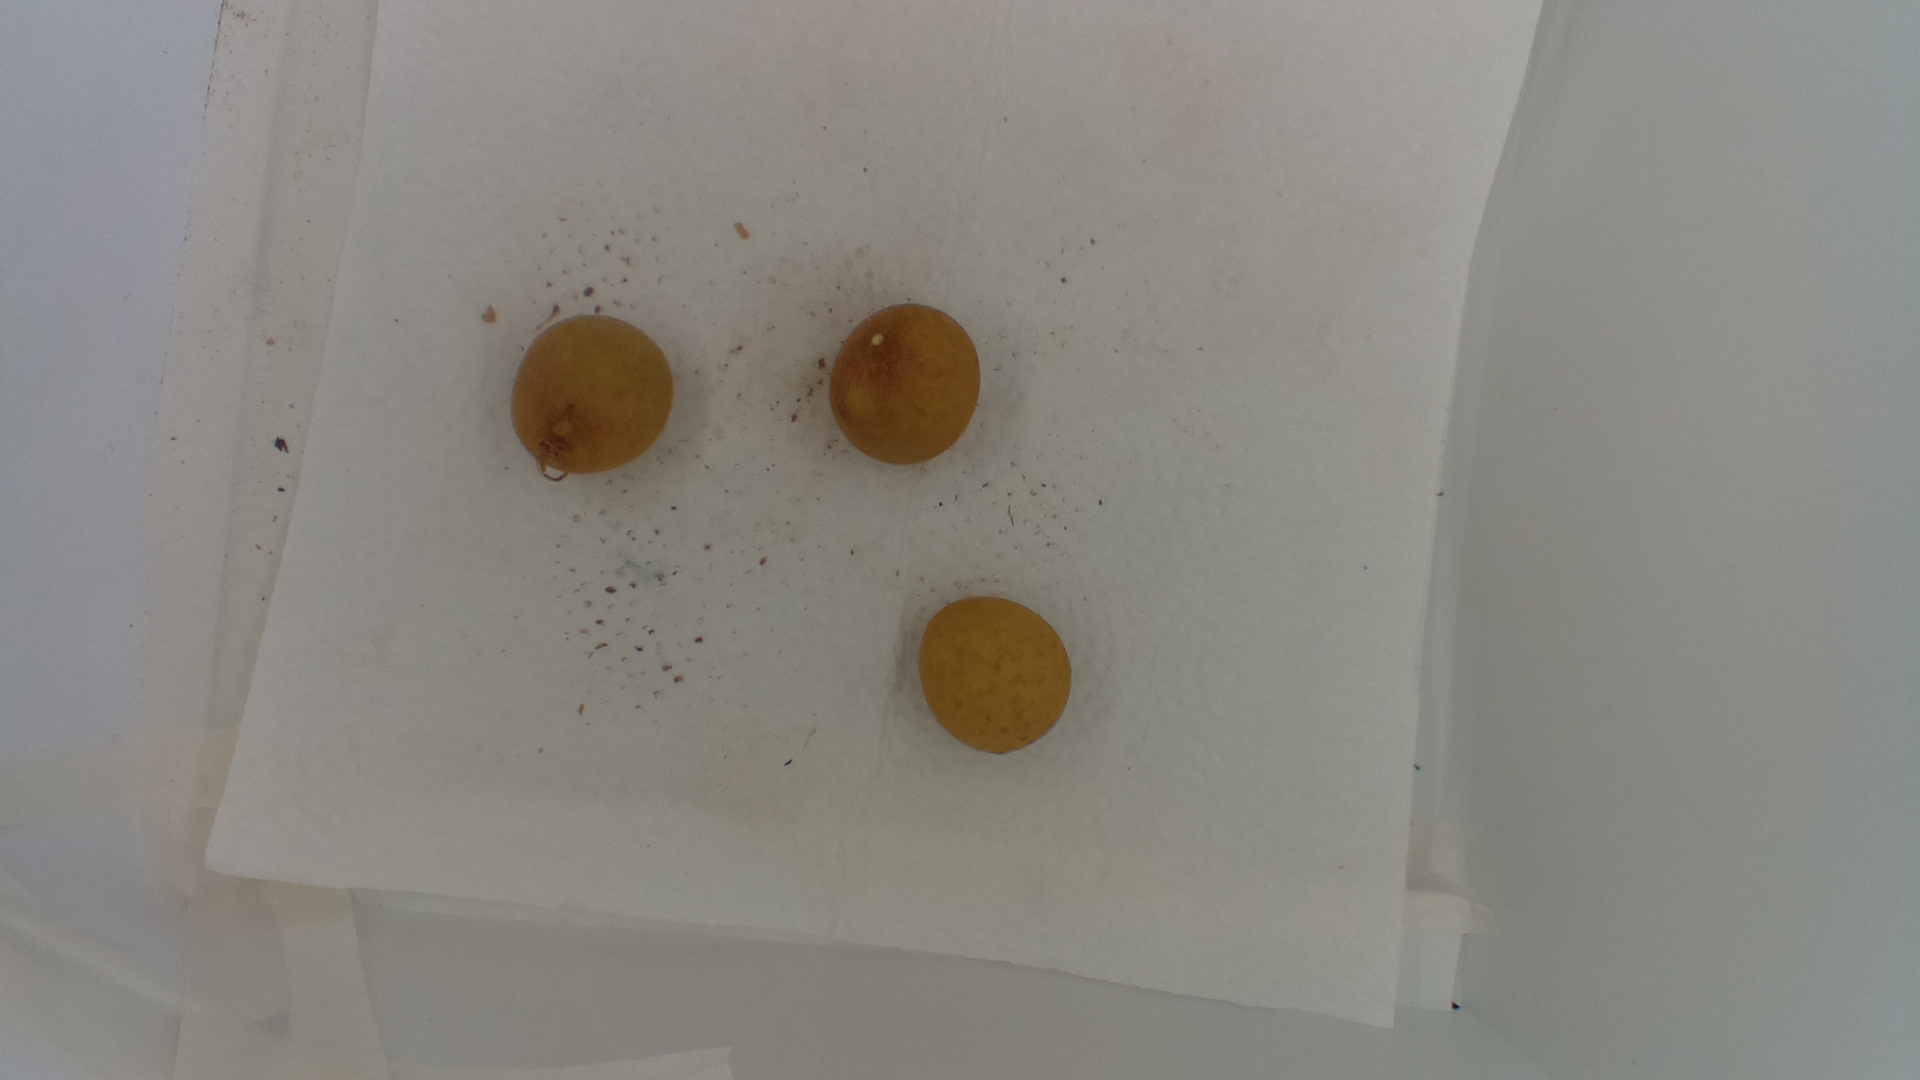fruit: (909, 591, 1084, 767), (510, 309, 676, 483), (828, 302, 988, 465)
